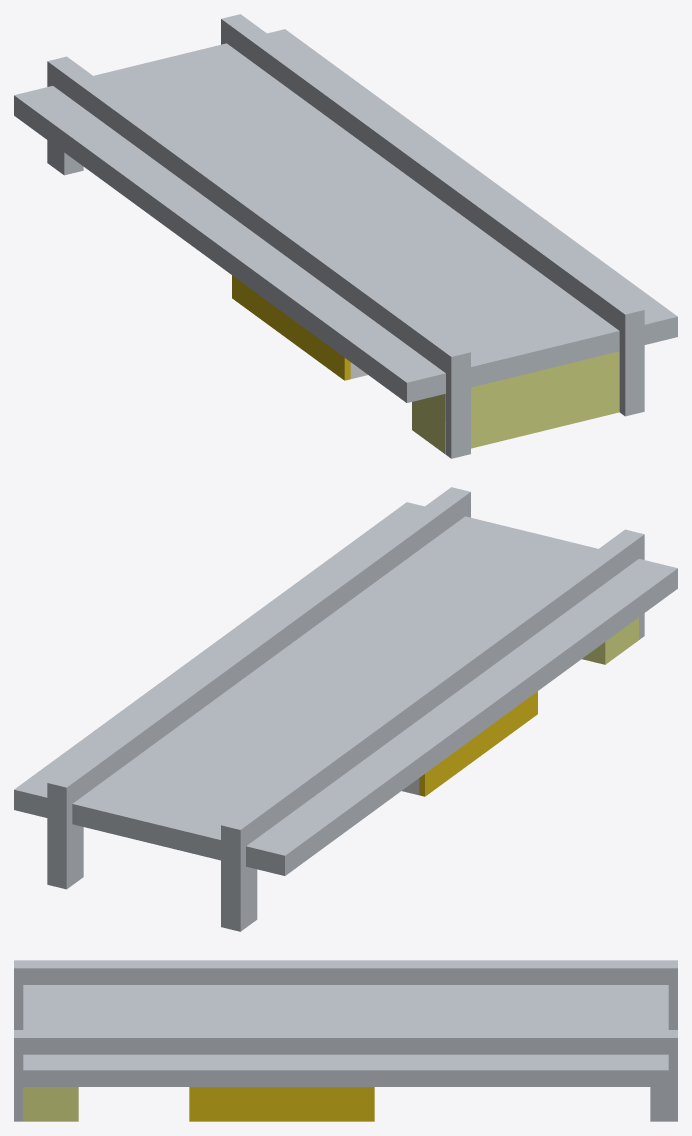
File: cantina.glb
3 renders of one model, top to bottom at view 1: azimuth 30°, elevation 25°; view 2: azimuth 150°, elevation 25°; view 3: azimuth 270°, elevation 25°, orthographic. The views are drawn at different scales.
Parts seen in each view (by area): view 1: Cantina; view 2: Cantina; view 3: Cantina.
Boxes of the visible parts, x1=… form: Cantina: x1=14, y1=14, x2=677, y2=458; Cantina: x1=14, y1=487, x2=677, y2=931; Cantina: x1=14, y1=960, x2=677, y2=1121.
Size of the model in its own units: 13.93 by 5 by 35.96.
